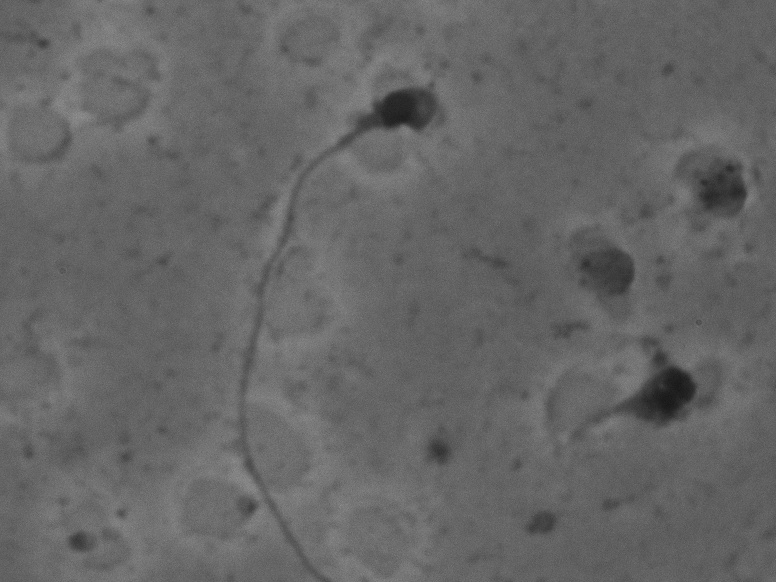Abnormal: (189, 75, 443, 563), (522, 347, 735, 481)
